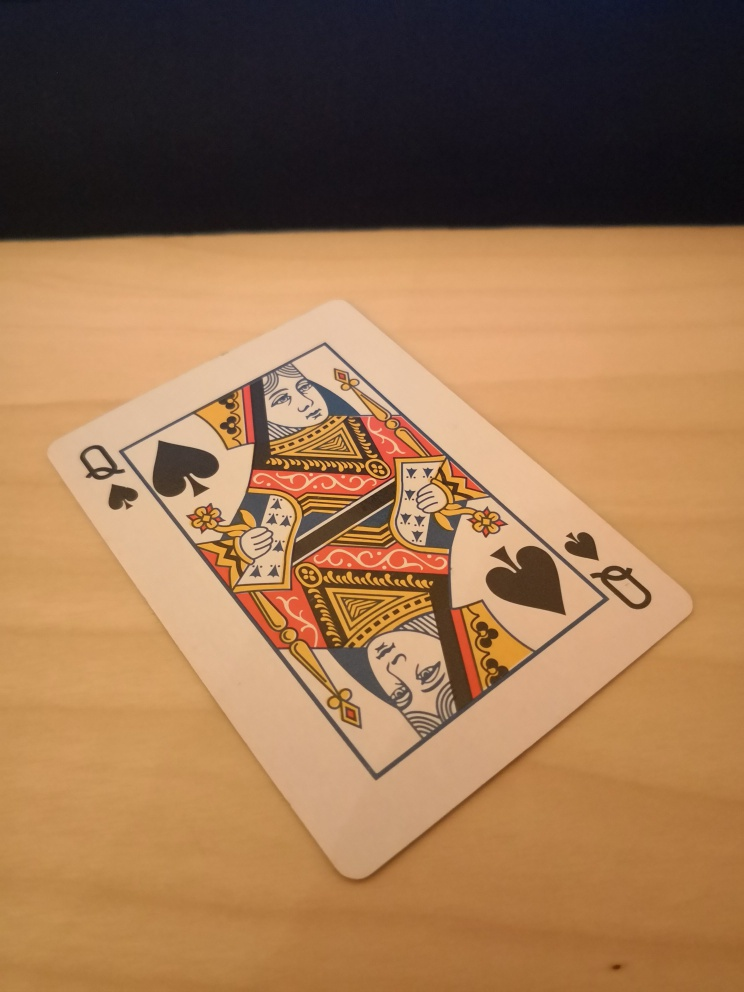queen: (46, 299, 695, 882)
